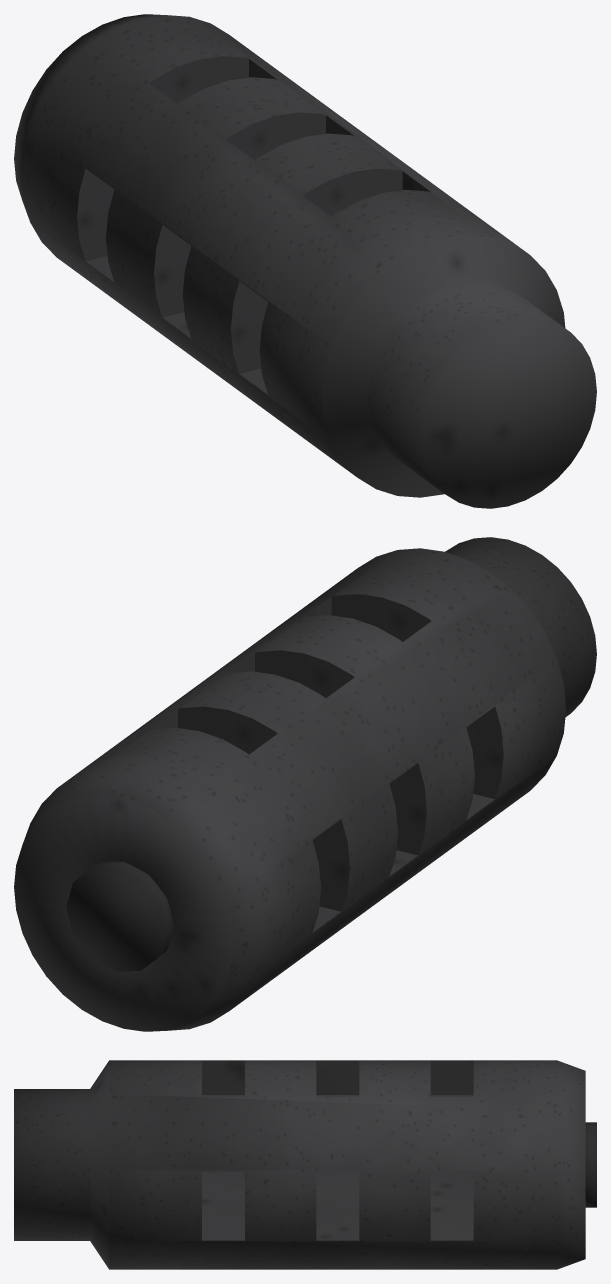
File: compensator.glb
The picture shows the model from 3 angles, top to bottom: view 1: azimuth 30°, elevation 25°; view 2: azimuth 150°, elevation 25°; view 3: azimuth 270°, elevation 25°; orthographic projection. The views are drawn at different scales.
Visible parts, largest first — view 1: body; view 2: body, bore; view 3: body, bore.
Part boxes in pixels (x1,y1,x2,y2): body: (14, 14, 596, 508); body: (14, 537, 596, 1031); bore: (66, 861, 173, 971); body: (14, 1060, 585, 1269); bore: (585, 1122, 596, 1207).
Bounding box in the file's own units: 0.022 × 0.022 × 0.0612.
Materials: 2 (1 with a texture image).
